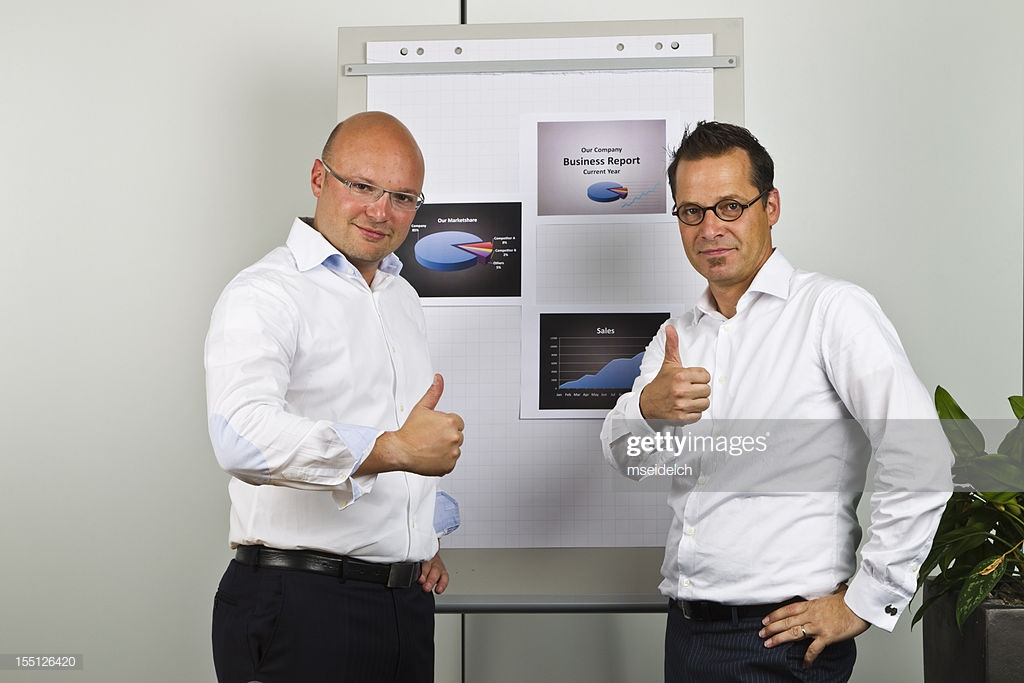thumbsup: (412, 373, 465, 477), (662, 324, 712, 427)
